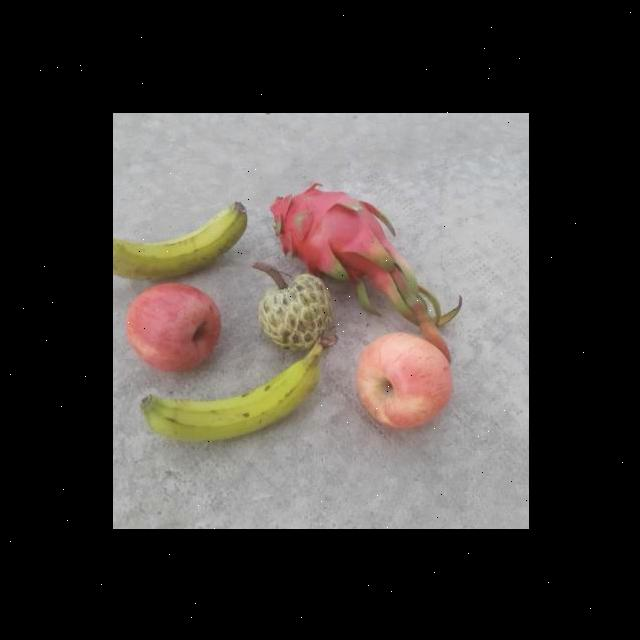Sakya fruit: (248, 270, 334, 350)
apple: (352, 331, 453, 430), (120, 280, 222, 373)
banana: (136, 336, 332, 451), (112, 200, 248, 281)
pitaya: (266, 182, 402, 278)
